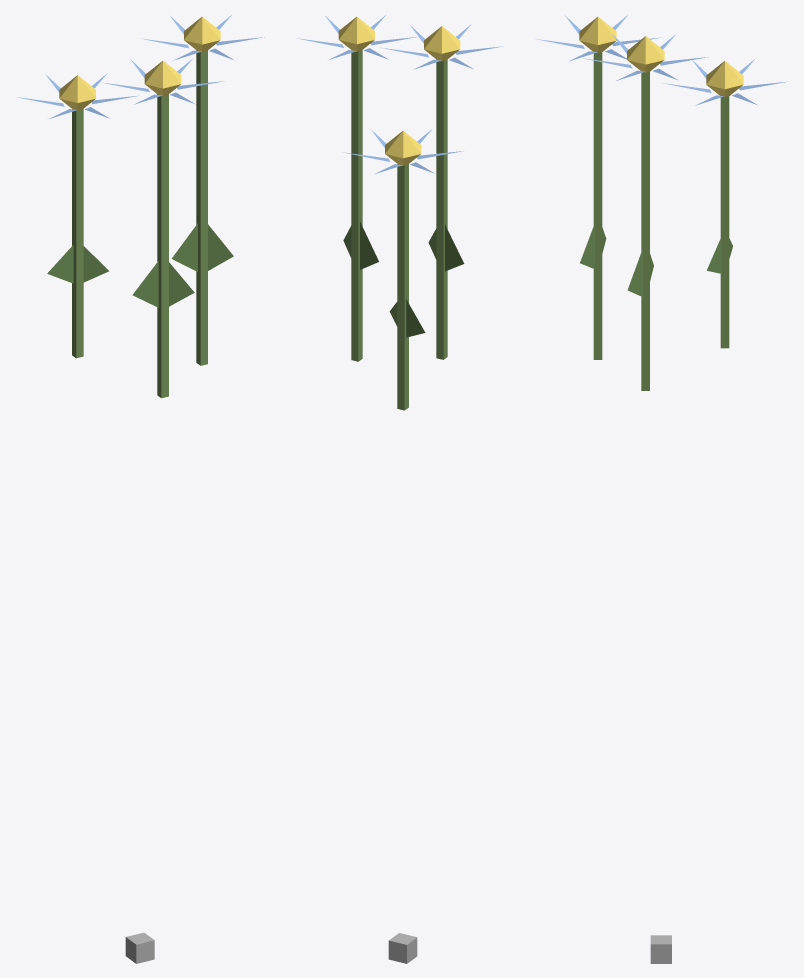
Rendered from rv_flower_blue.gltf.
The picture shows the model from 3 angles, left to right: view 1: azimuth 30°, elevation 25°; view 2: azimuth 150°, elevation 25°; view 3: azimuth 270°, elevation 25°; orthographic projection. The views are drawn at different scales.
Parts seen in each view (by area): view 1: RV_FlowerBlue; view 2: RV_FlowerBlue; view 3: RV_FlowerBlue.
Part boxes in pixels (x1,y1,x2,y2): RV_FlowerBlue: (16,15,264,963); RV_FlowerBlue: (297,15,503,963); RV_FlowerBlue: (536,15,787,963).
Size of the model in its own units: 0.1985 by 0.9708 by 0.2374.
